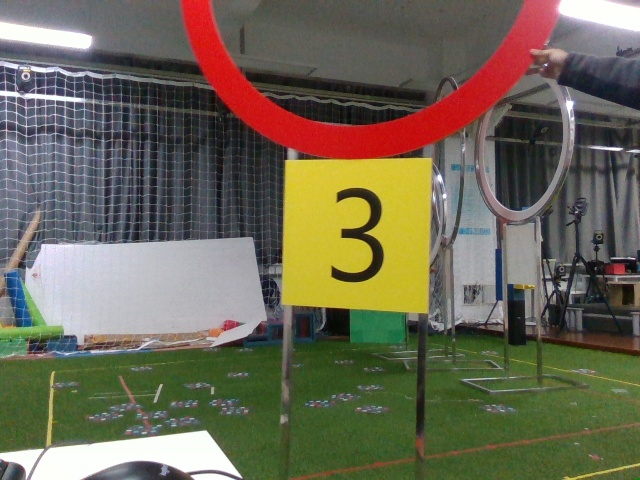target: (287, 162, 426, 310)
